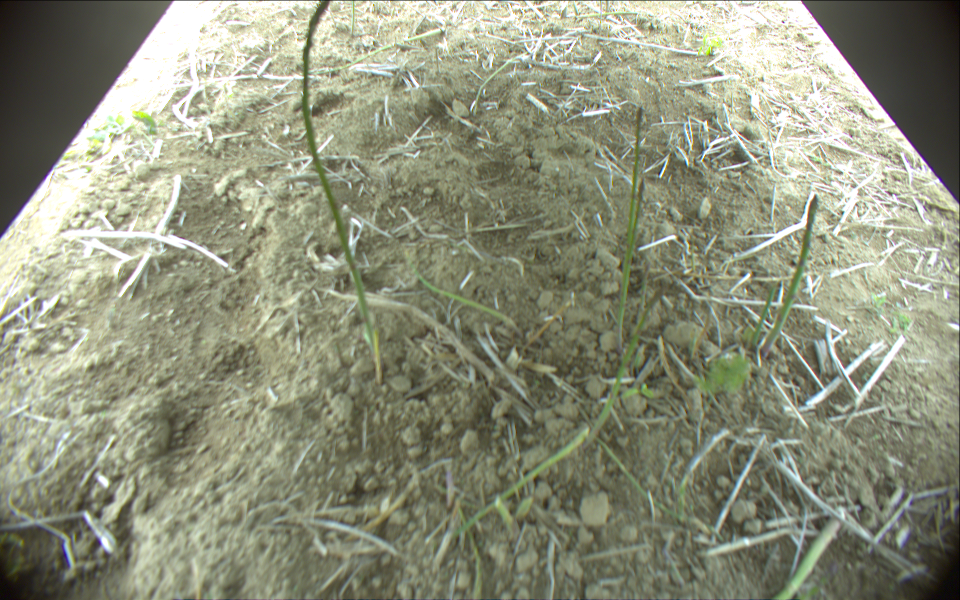aspa: (299, 1, 376, 355), (441, 429, 589, 535), (585, 261, 656, 451), (760, 191, 819, 353), (405, 261, 520, 331), (769, 512, 844, 600), (617, 179, 650, 356), (317, 29, 442, 74), (471, 50, 531, 114), (624, 109, 644, 247), (748, 280, 776, 352), (573, 9, 639, 20), (373, 328, 382, 382), (323, 1, 338, 27), (349, 1, 356, 36), (607, 1, 612, 19), (598, 1, 602, 18)
